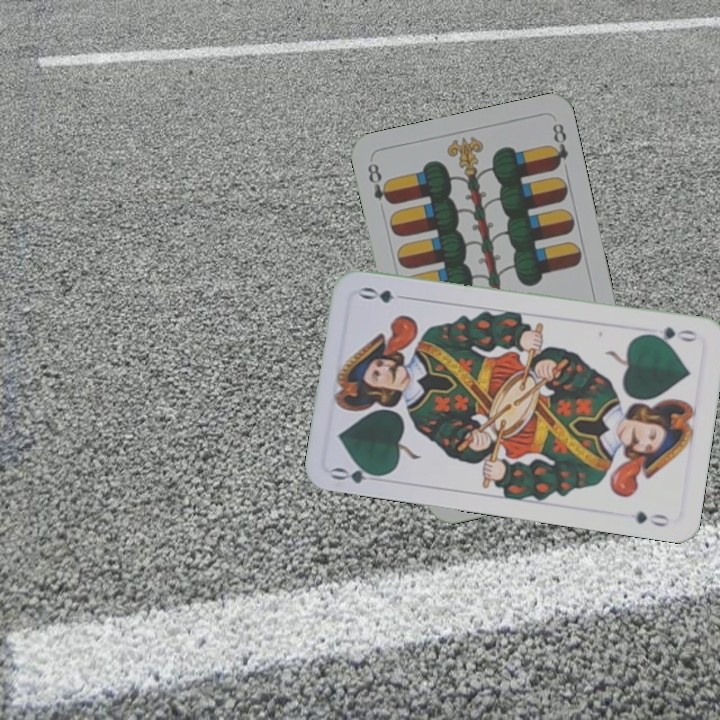E8: (363, 158, 395, 207)
GO: (328, 459, 388, 486), (642, 322, 702, 346)
